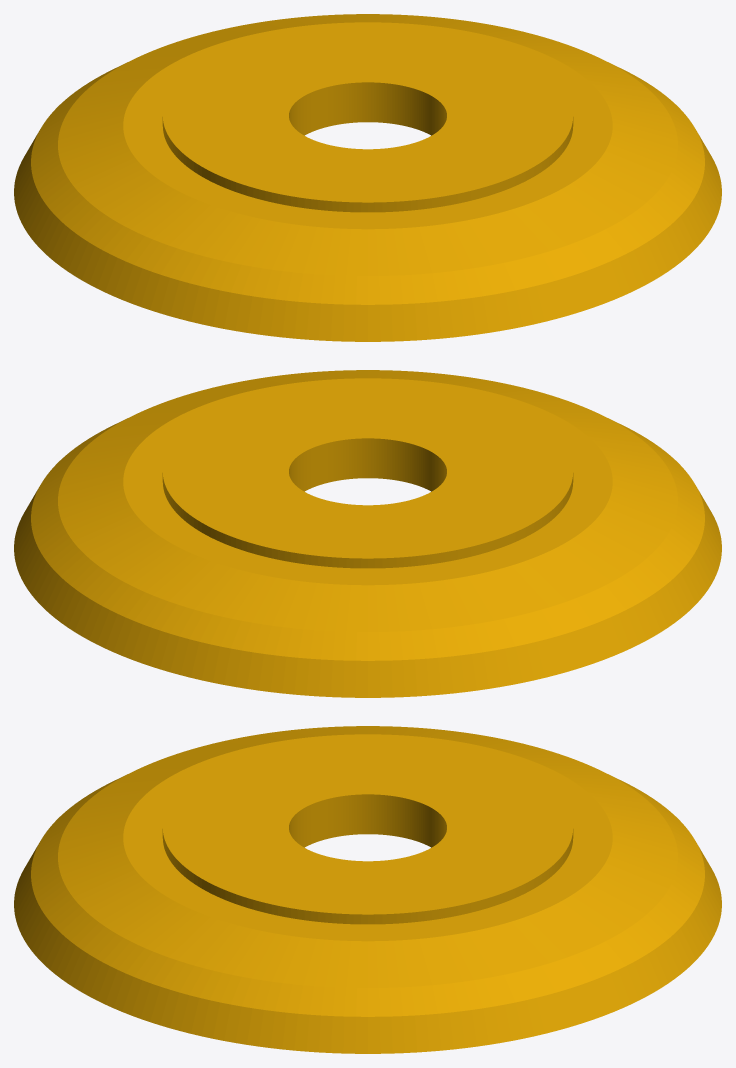
Rendered from TopfdeckelTeil-35.glb.
3 views of the same model, one above another, from view 1: azimuth 30°, elevation 25°; view 2: azimuth 150°, elevation 25°; view 3: azimuth 270°, elevation 25° (orthographic).
Bounding box in the file's own units: 64.45 × 7.68 × 64.45.
